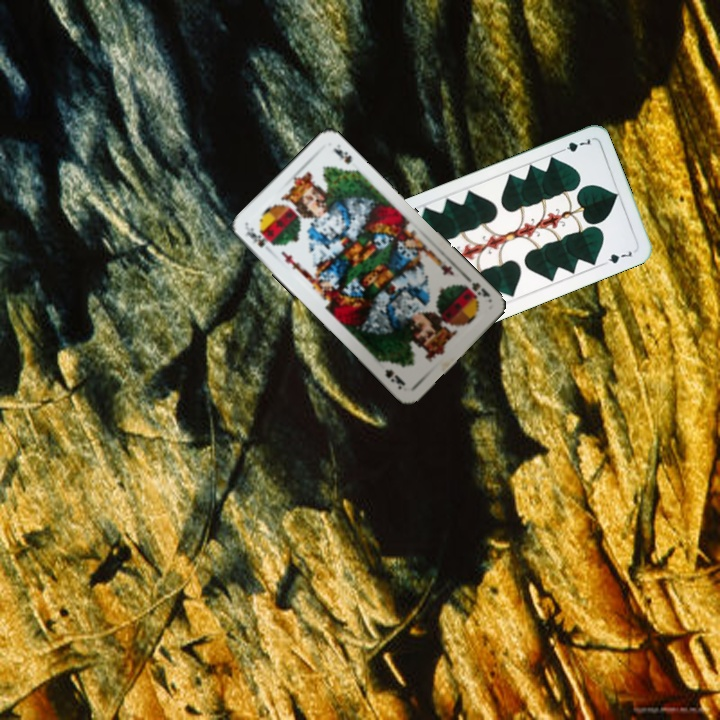G7: (554, 134, 594, 155)
SK: (241, 223, 268, 250), (468, 278, 492, 300)
